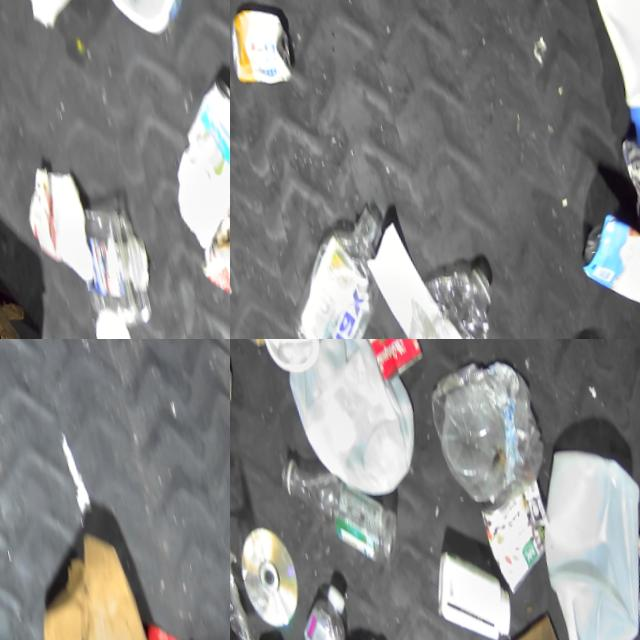can: (473, 481, 559, 602), (230, 2, 294, 95), (351, 339, 424, 389)
milk_jug: (265, 339, 427, 516), (516, 436, 640, 640), (148, 71, 230, 257), (79, 0, 214, 44), (0, 0, 138, 38)
non_white_jug: (566, 206, 640, 339)
plastic_bottle: (271, 432, 405, 593), (266, 202, 411, 339), (428, 385, 513, 513), (389, 264, 511, 339), (255, 584, 364, 640)
